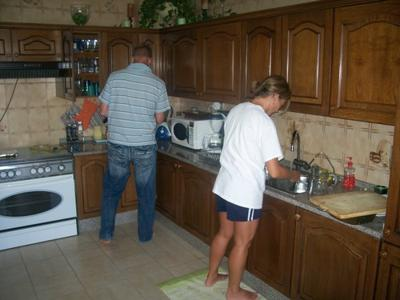person: (206, 74, 302, 300)
